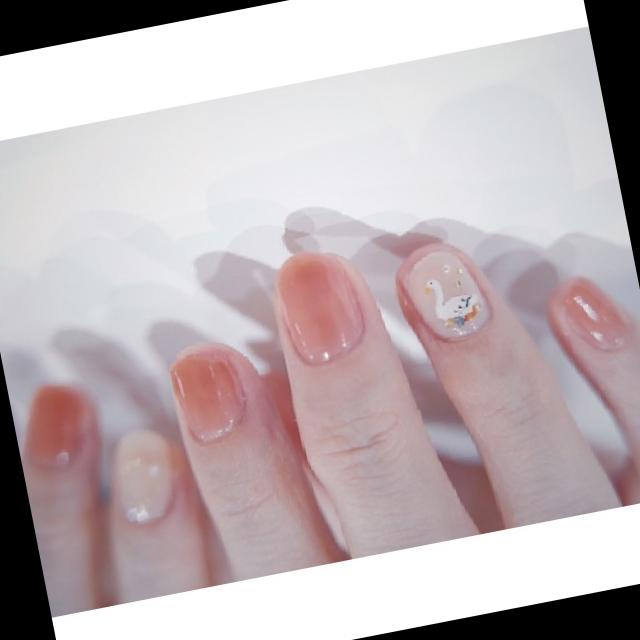Nail: (275, 255, 364, 364), (403, 248, 492, 337), (171, 345, 247, 445), (113, 432, 174, 524), (25, 385, 91, 469), (561, 279, 628, 351)
